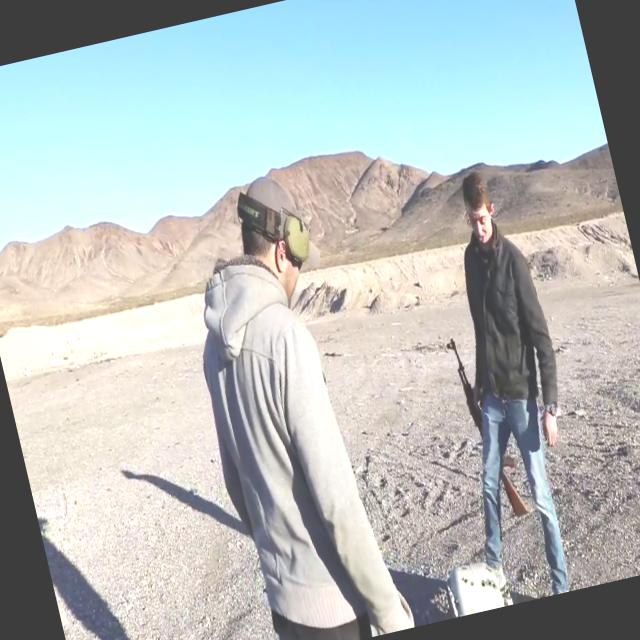long weapon: (438, 315, 532, 532)
